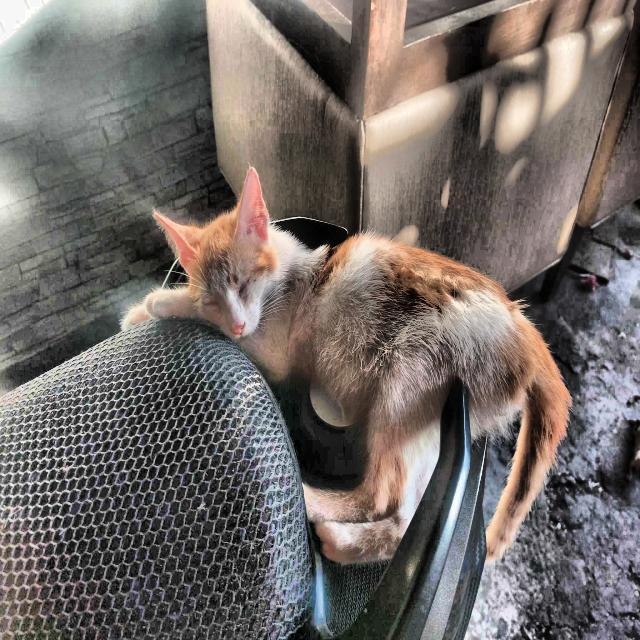Healthy skin: (317, 275, 479, 374)
